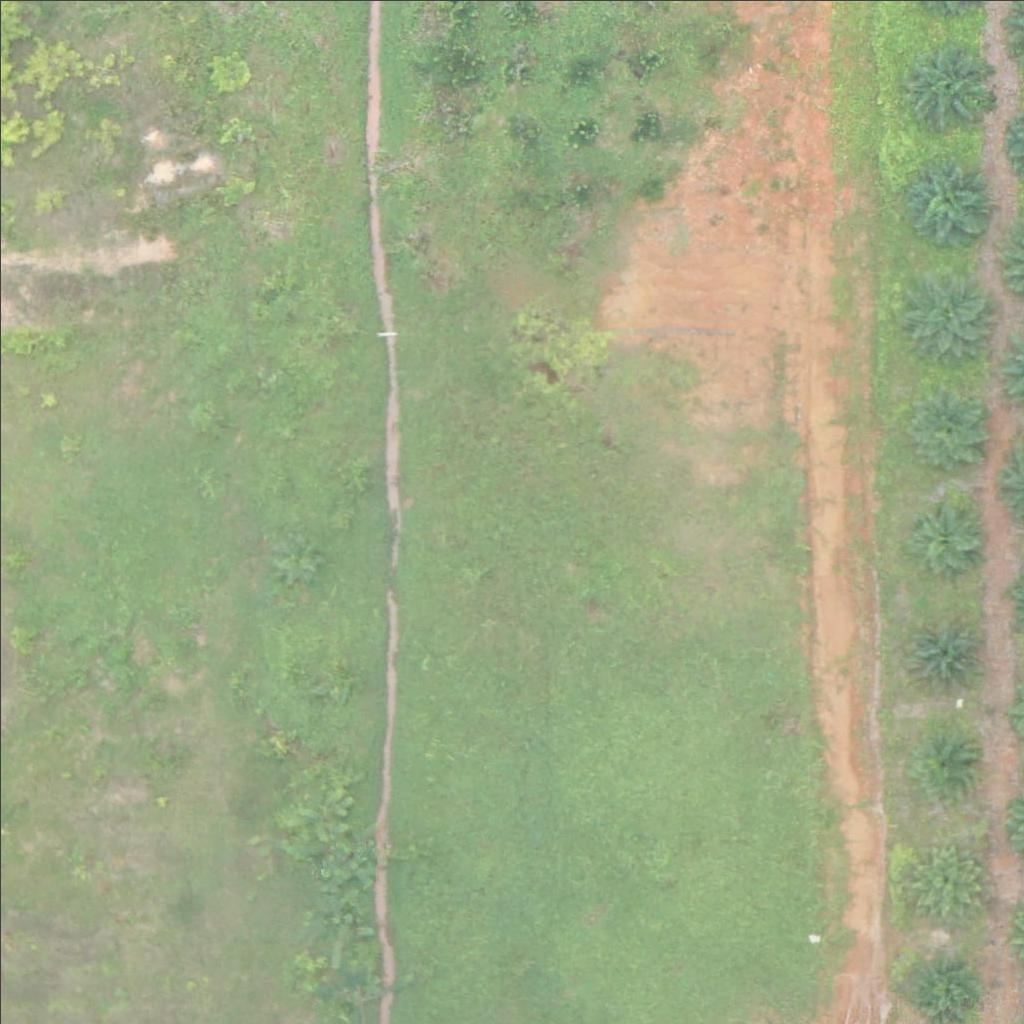Kelapa_Sawit: (896, 148, 996, 249), (902, 487, 990, 575), (900, 40, 988, 128), (899, 606, 986, 694), (903, 386, 990, 474), (903, 271, 990, 359), (911, 844, 986, 919), (918, 733, 981, 796)
